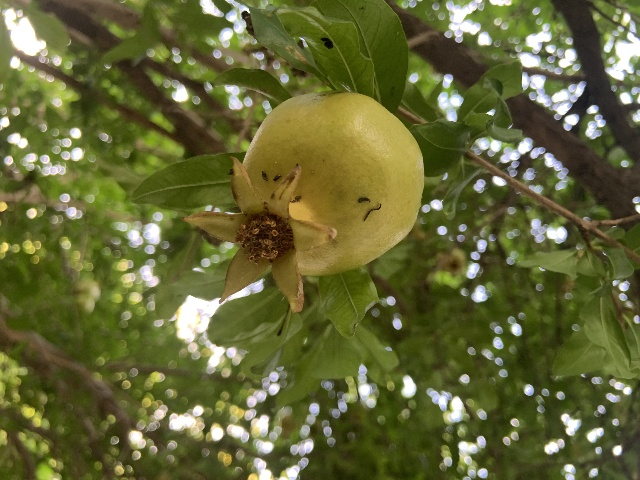mid-growth: (183, 92, 423, 314)
